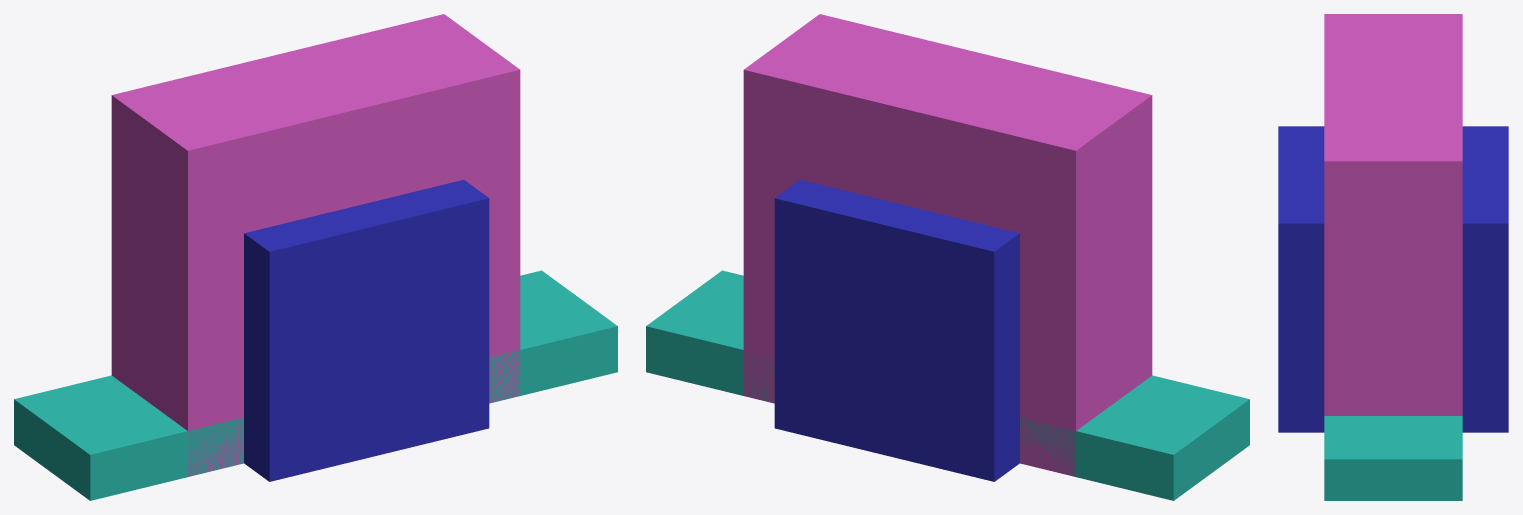
The model's file is sample-model.glb.
3 views of the same model, side by side, from view 1: azimuth 30°, elevation 25°; view 2: azimuth 150°, elevation 25°; view 3: azimuth 270°, elevation 25° (orthographic). The views are drawn at different scales.
Visible parts, largest first — view 1: OB_3, OB_1, OB_2; view 2: OB_3, OB_1, OB_2; view 3: OB_3, OB_1, OB_2.
Part boxes in pixels (left/top/right/bottom): OB_3: left=111, top=14, right=520, bottom=476; OB_1: left=244, top=179, right=489, bottom=481; OB_2: left=14, top=270, right=617, bottom=500; OB_3: left=743, top=14, right=1152, bottom=476; OB_1: left=774, top=179, right=1019, bottom=481; OB_2: left=646, top=270, right=1249, bottom=500; OB_3: left=1324, top=14, right=1462, bottom=415; OB_1: left=1278, top=126, right=1508, bottom=432; OB_2: left=1324, top=416, right=1462, bottom=500.
Size of the model in its own units: 1.2 by 0.709 by 0.5.
